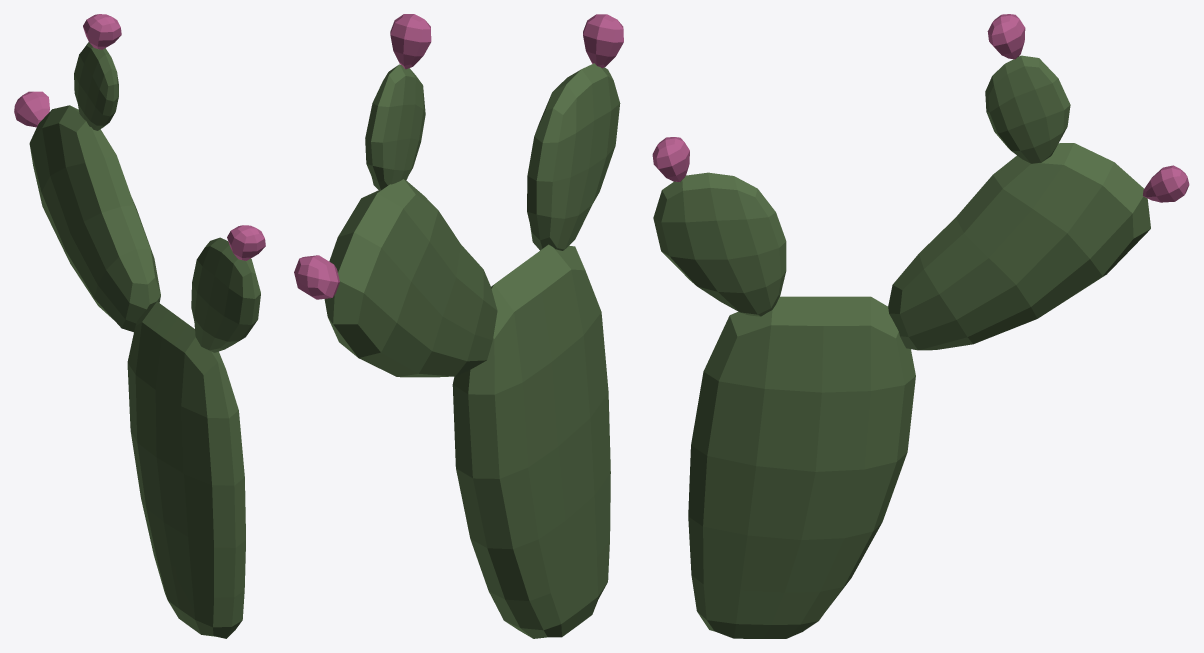
Rendered from cactusflowers_5.glb.
The picture shows the model from 3 angles, left to right: view 1: azimuth 30°, elevation 25°; view 2: azimuth 150°, elevation 25°; view 3: azimuth 270°, elevation 25°; orthographic projection. The views are drawn at different scales.
Visible parts, largest first — view 1: CactusFlowers_5; view 2: CactusFlowers_5; view 3: CactusFlowers_5.
Boxes of the visible parts, bbox=[...] form: CactusFlowers_5: bbox=[14, 14, 265, 638]; CactusFlowers_5: bbox=[294, 14, 623, 638]; CactusFlowers_5: bbox=[652, 14, 1189, 638].
Bounding box in the file's own units: 0.1117 × 0.9382 × 0.734.
